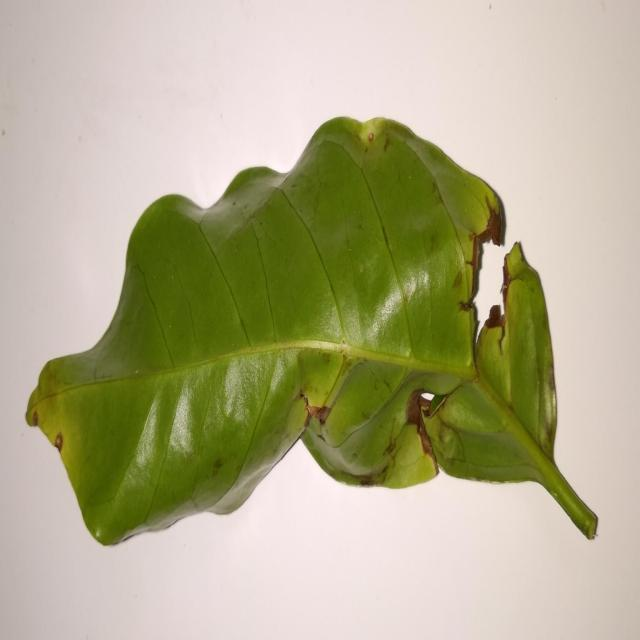Enfermedad-Antracnosis: (23, 118, 599, 549)
